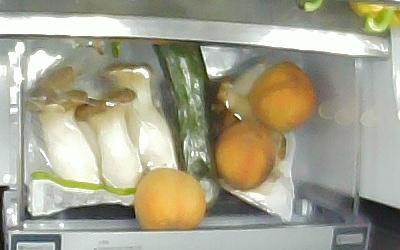peach: (250, 61, 317, 132), (132, 166, 205, 229), (214, 122, 276, 190)
